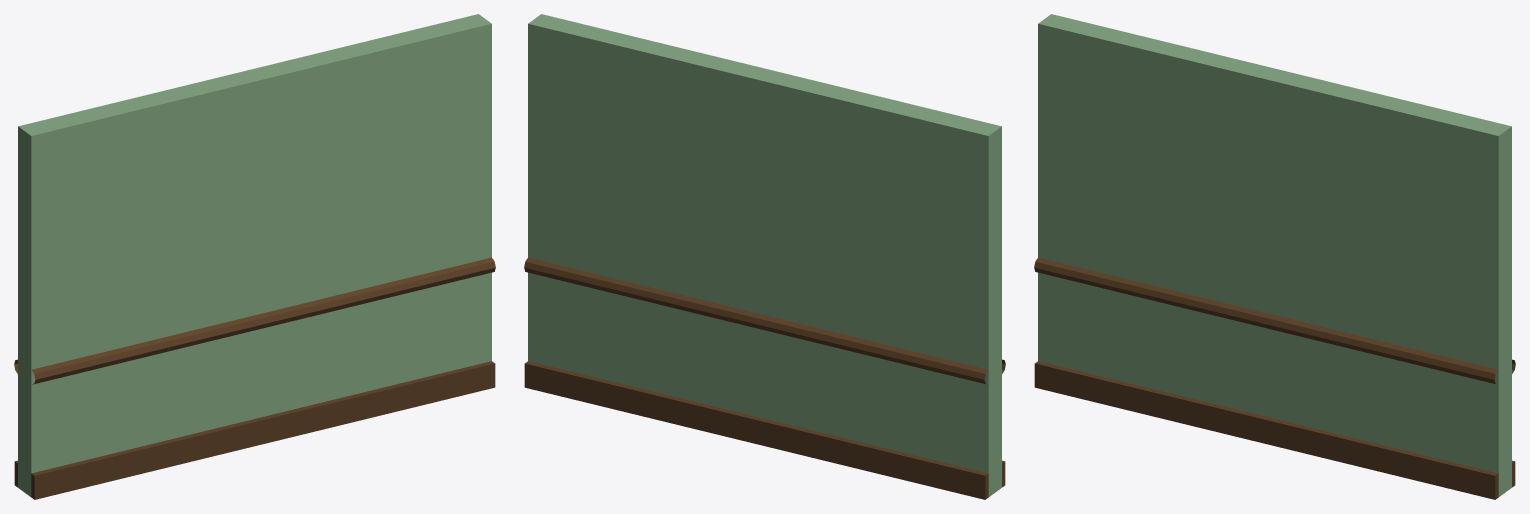
The model's file is h_wall_2.fbx.
3 views of the same model, side by side, from view 1: azimuth 30°, elevation 25°; view 2: azimuth 150°, elevation 25°; view 3: azimuth 330°, elevation 25° (orthographic).
Visible parts, largest first — view 1: Cube; view 2: Cube; view 3: Cube.
Part boxes in pixels (x1,y1,x2,y2): Cube: (14,14,495,499); Cube: (524,14,1005,499); Cube: (1034,14,1515,499).
Size of the model in its own units: 400 by 300 by 32.
